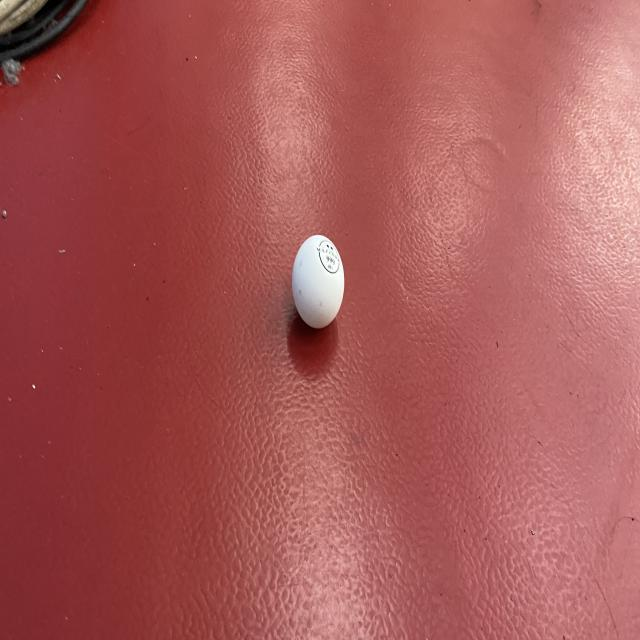ping-pong-ball: (289, 231, 347, 335)
